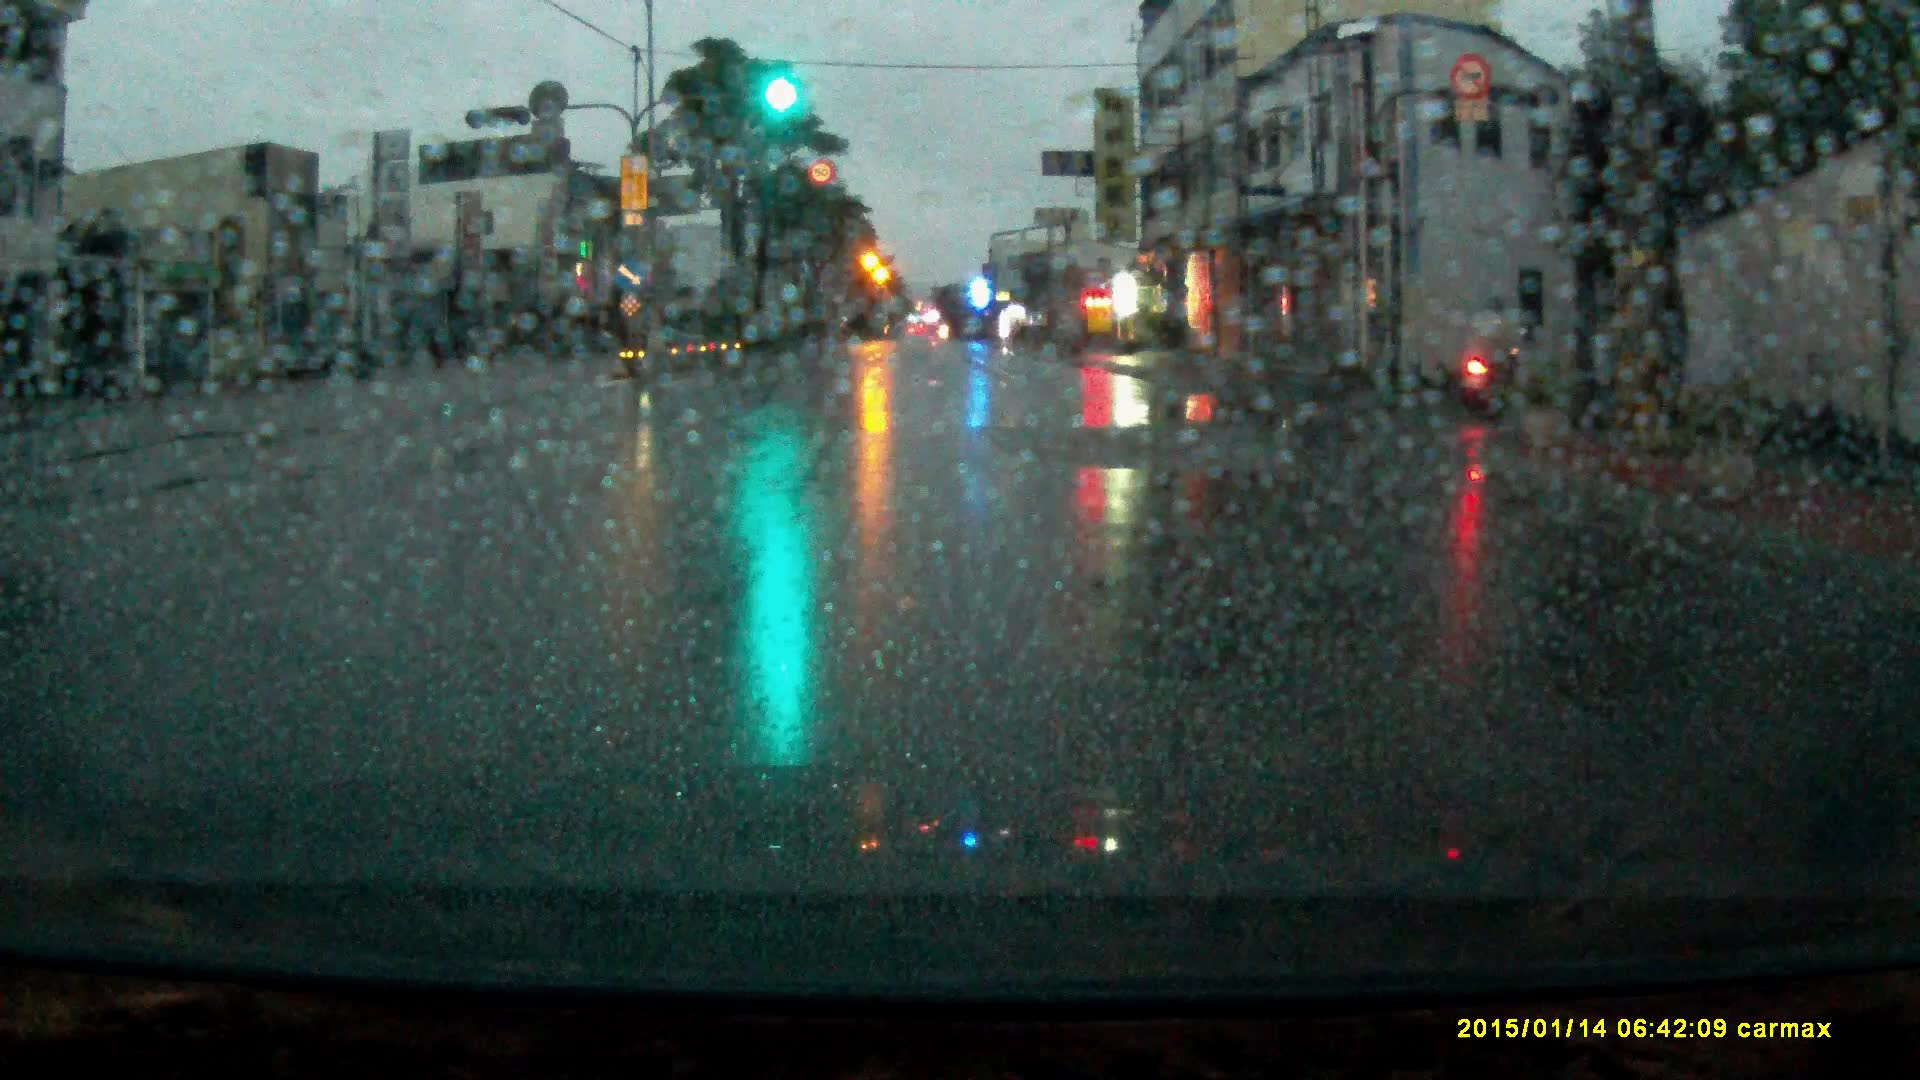rider: (1459, 290, 1529, 421)
